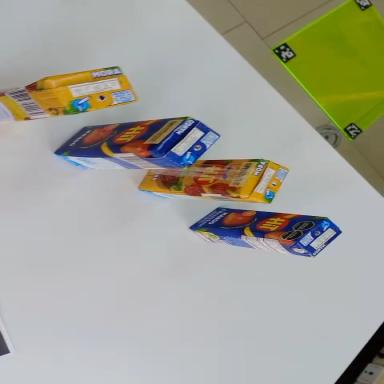HIT-MANGO: (54, 115, 221, 175), (189, 204, 343, 260)
HIT-MORA: (0, 64, 137, 125), (139, 155, 288, 204)
cara_F: (189, 205, 327, 245), (53, 117, 191, 155), (138, 156, 261, 196)
